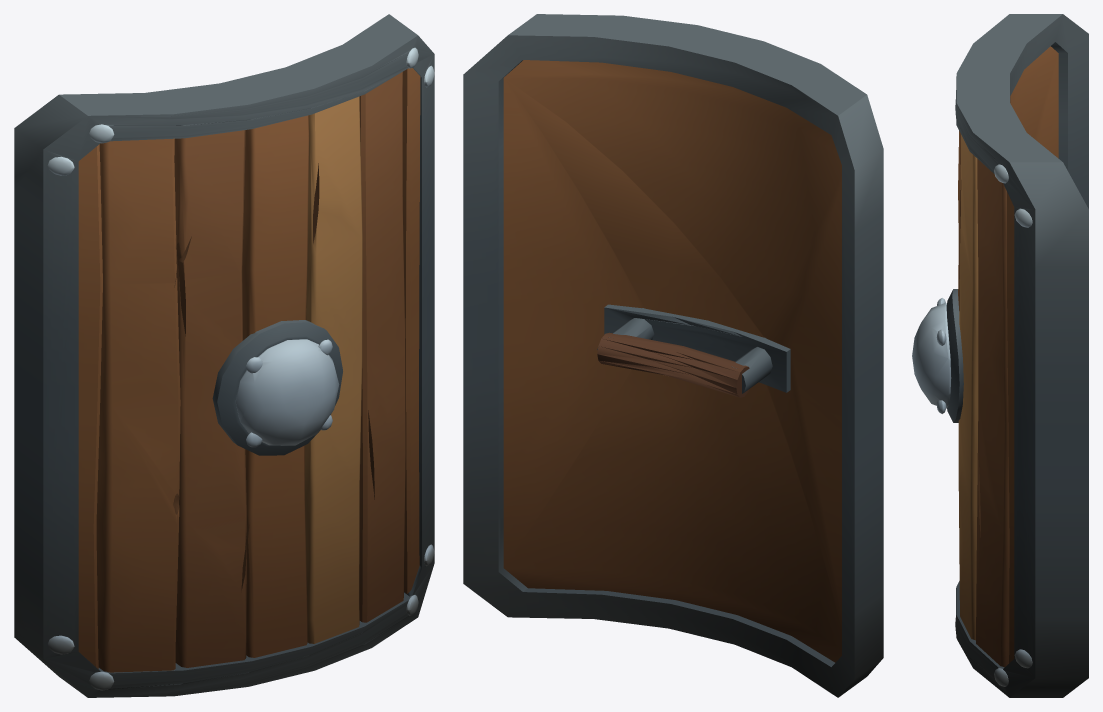
File: shield_scutum_wood.glb
3 views of the same model, side by side, from view 1: azimuth 30°, elevation 25°; view 2: azimuth 150°, elevation 25°; view 3: azimuth 270°, elevation 25° (orthographic). The views are drawn at different scales.
Visible parts, largest first — view 1: Item; view 2: Item; view 3: Item.
Boxes of the visible parts, x1,y1,x2,y2 form: Item: (14,14,434,697); Item: (463,14,883,697); Item: (912,14,1088,697).
Bounding box in the file's own units: 0.9 × 1.28 × 0.383.
Materials: 2 (2 with a texture image).
